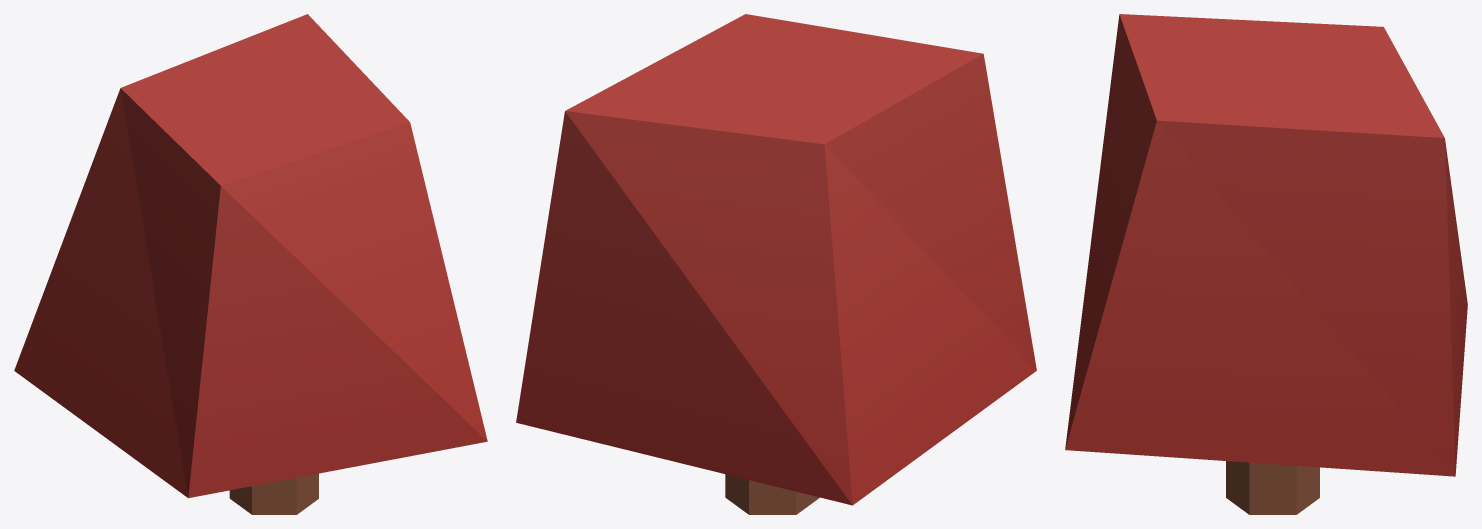
Rendered from Bush_11_gradient_red.fbx.
3 views of the same model, side by side, from view 1: azimuth 30°, elevation 25°; view 2: azimuth 150°, elevation 25°; view 3: azimuth 270°, elevation 25° (orthographic). The views are drawn at different scales.
Visible parts, largest first — view 1: Bush_11_gradient_red; view 2: Bush_11_gradient_red; view 3: Bush_11_gradient_red.
Boxes of the visible parts, <box> form: Bush_11_gradient_red: <box>14,14,487,514</box>; Bush_11_gradient_red: <box>516,14,1036,514</box>; Bush_11_gradient_red: <box>1065,14,1467,514</box>.
Size of the model in its own units: 50.88 by 59.59 by 51.95.
